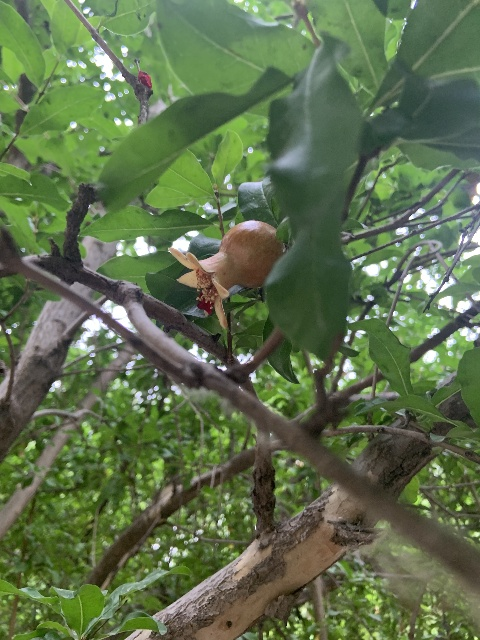early-fruit: (167, 219, 284, 330)
